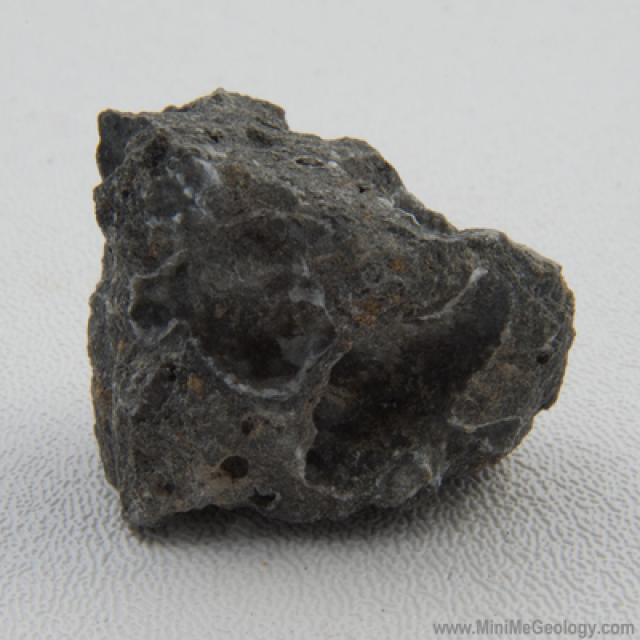Igneous: (54, 84, 573, 526)
